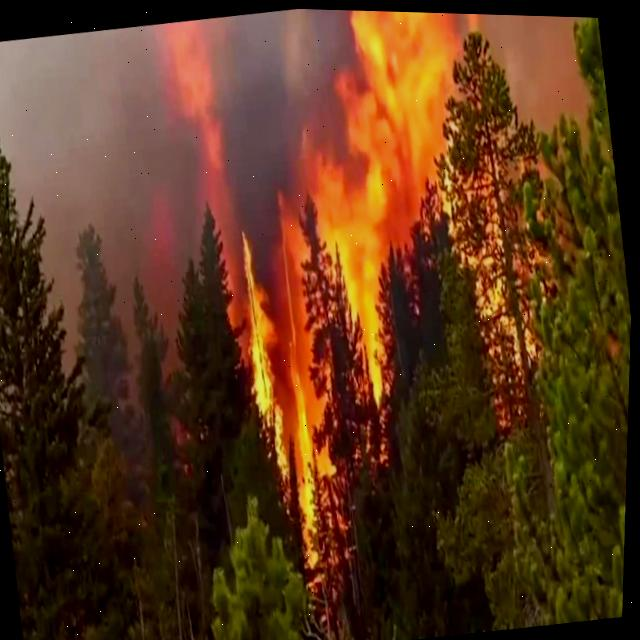fire: (305, 8, 464, 398), (242, 195, 324, 565)
smoke: (99, 7, 351, 358), (469, 11, 584, 116)
